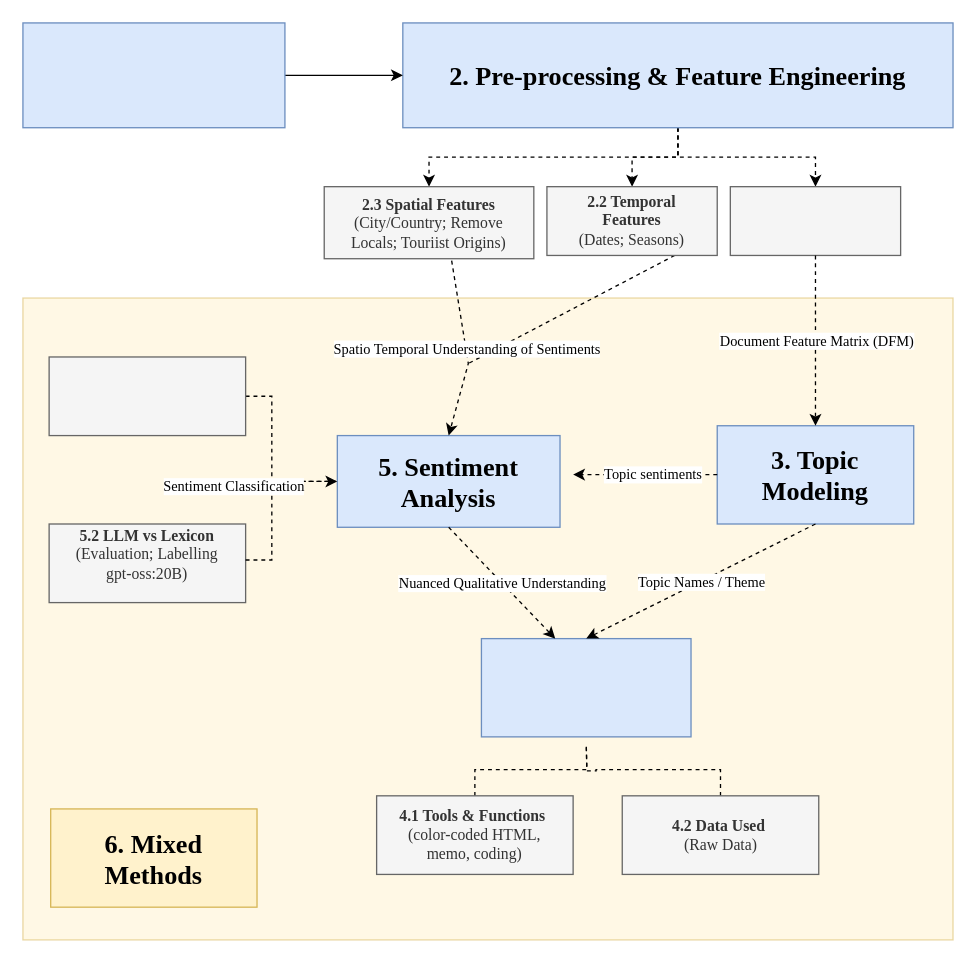
This 976x963 diagram has some shape labels left out. The box of each missing label's shape, as (x1, y1, x2, y2) in pixels:
1. Data Collection Source: Tripadvisor Tool: Web Scraping: (22, 22, 285, 128)
2.1 Text Features (Tokenize, PoS filter): (729, 185, 901, 255)
4. Qualitative Exploration: (480, 637, 691, 737)
5.1 Gold Standard (n = 478; stratified sampling): (48, 356, 246, 436)
